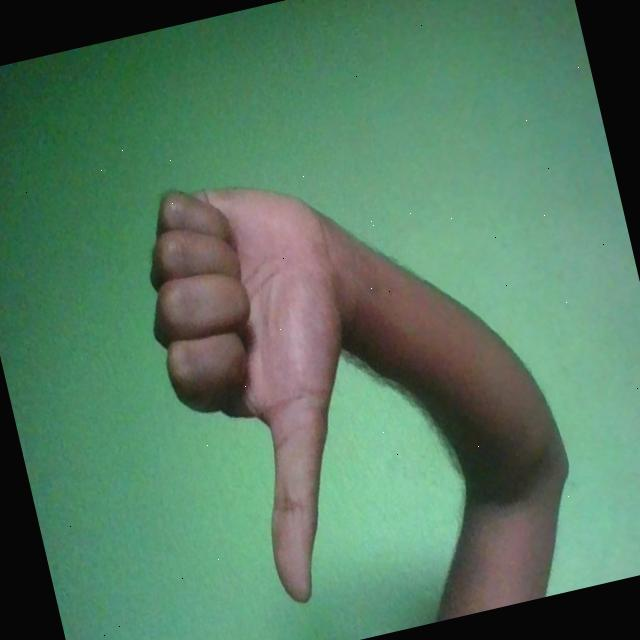Dislike: (123, 152, 418, 620)
